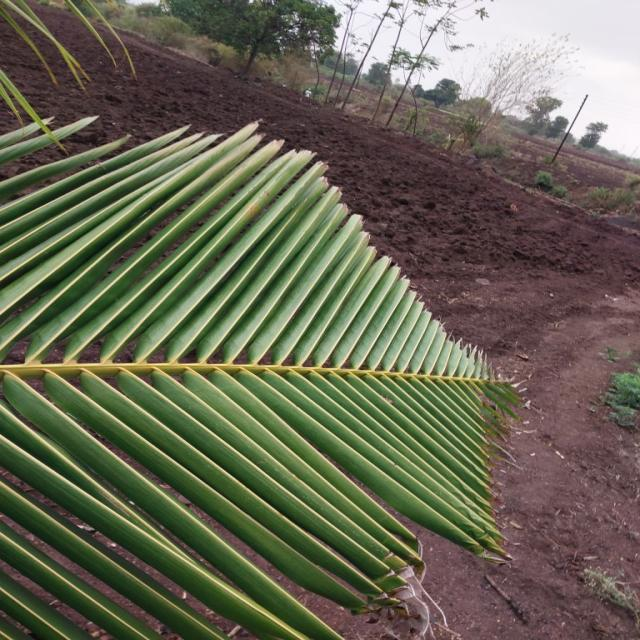leaf rot: (22, 124, 570, 638)
